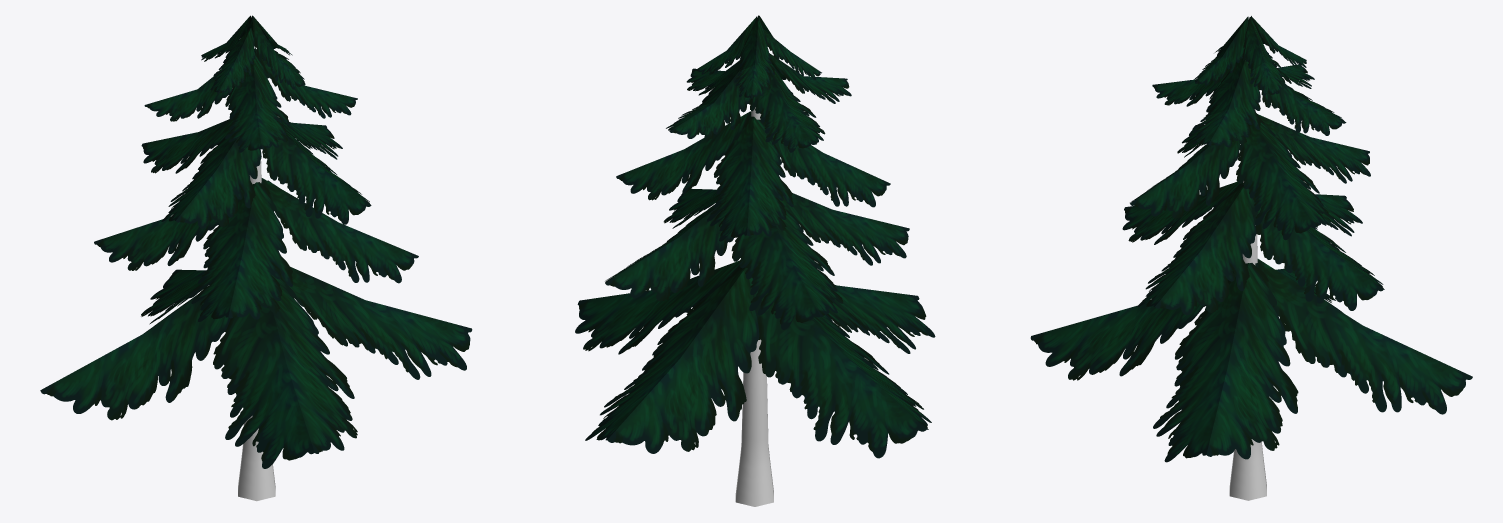
File: tree3.fbx
3 renders of one model, left to right at view 1: azimuth 30°, elevation 25°; view 2: azimuth 150°, elevation 25°; view 3: azimuth 270°, elevation 25°, orthographic. The views are drawn at different scales.
Visible parts, largest first — view 1: 222.006, tree.001; view 2: 222.006, tree.001; view 3: 222.006, tree.001.
Part boxes in pixels (box(x1,y1,x2,y2)): 222.006: box(40, 15, 472, 468); tree.001: box(238, 160, 275, 501); 222.006: box(575, 15, 935, 458); tree.001: box(735, 107, 773, 506); 222.006: box(1030, 16, 1472, 462); tree.001: box(1229, 109, 1266, 500).
Bounding box in the file's own units: 5.82 × 6.37 × 5.83.
